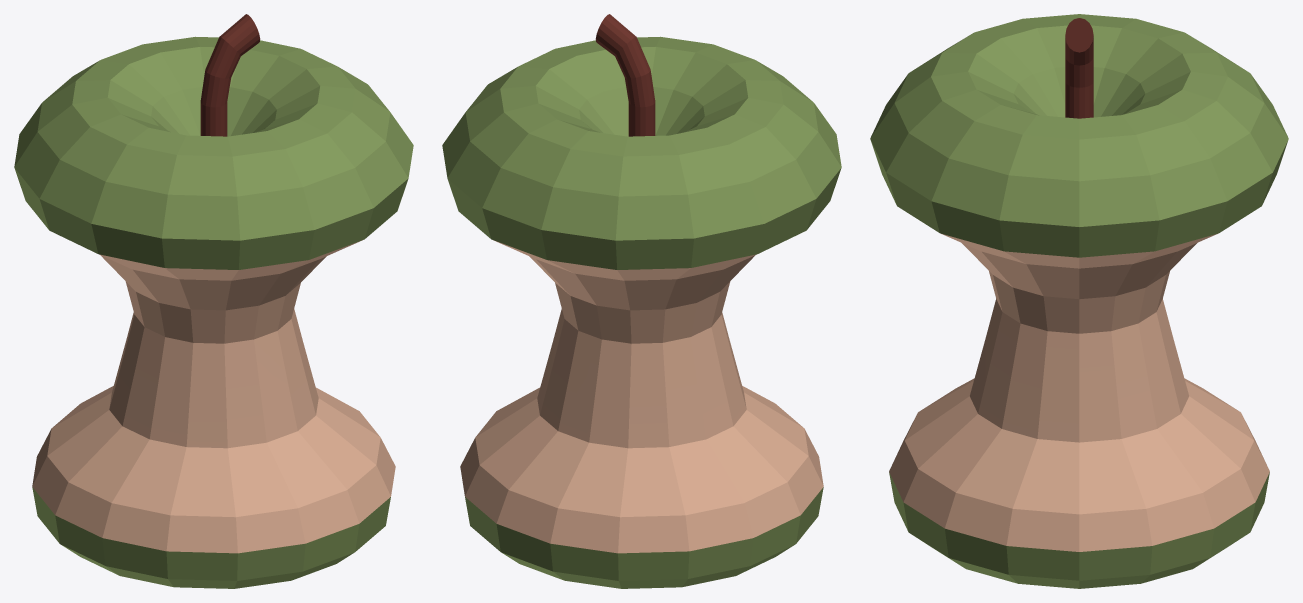
Rendered from green_apple_partyassets.fbx.
3 views of the same model, side by side, from view 1: azimuth 30°, elevation 25°; view 2: azimuth 150°, elevation 25°; view 3: azimuth 270°, elevation 25° (orthographic). The views are drawn at different scales.
Parts seen in each view (by area): view 1: green_apple_partyassets; view 2: green_apple_partyassets; view 3: green_apple_partyassets.
Part boxes in pixels (x1=…): green_apple_partyassets: x1=14, y1=14, x2=413, y2=588; green_apple_partyassets: x1=442, y1=14, x2=841, y2=588; green_apple_partyassets: x1=870, y1=14, x2=1288, y2=588.
Bounding box in the file's own units: 10.17 × 14.12 × 10.17.
